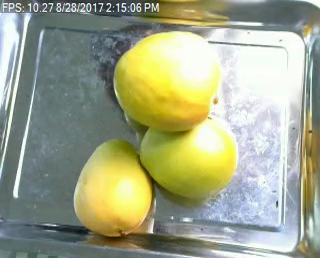Mango: (109, 32, 221, 130), (140, 111, 238, 196), (71, 139, 153, 233)
